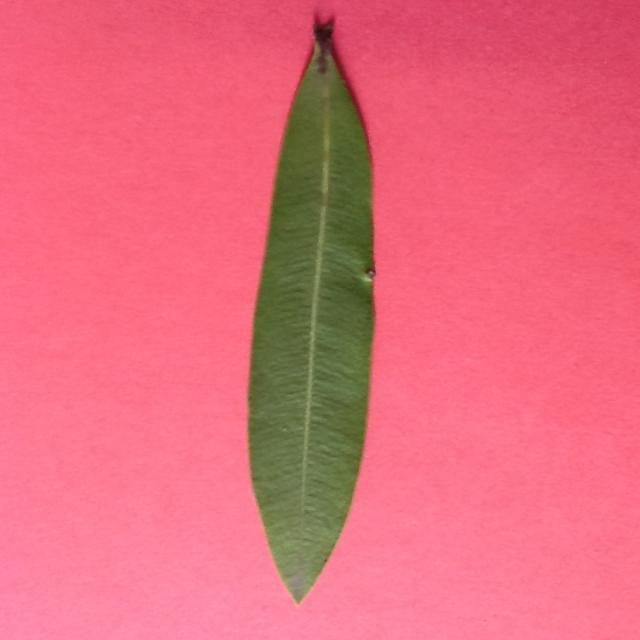foliage: (245, 14, 382, 608)
